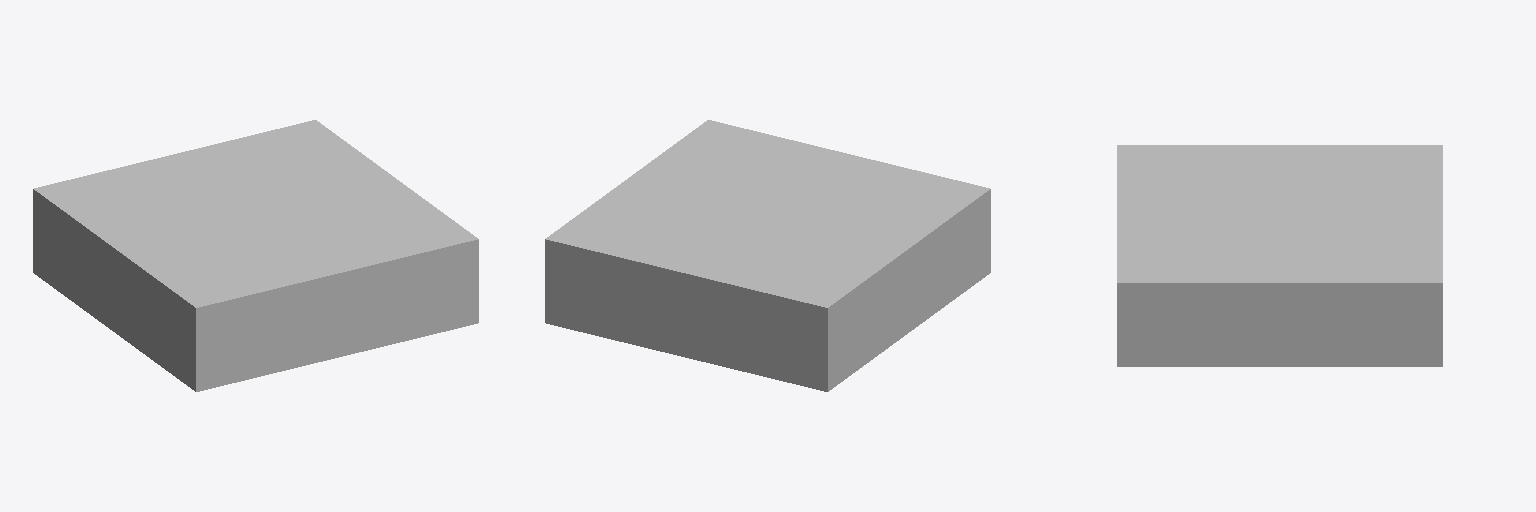
File: rooftop.3.obj
The picture shows the model from 3 angles: view 1: azimuth 30°, elevation 25°; view 2: azimuth 150°, elevation 25°; view 3: azimuth 270°, elevation 25°; orthographic projection.
Visible parts, largest first — view 1: Cube.030_Cube.025; view 2: Cube.030_Cube.025; view 3: Cube.030_Cube.025.
Boxes of the visible parts, x1=… form: Cube.030_Cube.025: x1=33, y1=120, x2=478, y2=391; Cube.030_Cube.025: x1=545, y1=120, x2=990, y2=391; Cube.030_Cube.025: x1=1117, y1=145, x2=1442, y2=366.
Bounding box in the file's own units: 3.66 × 1.04 × 3.66.